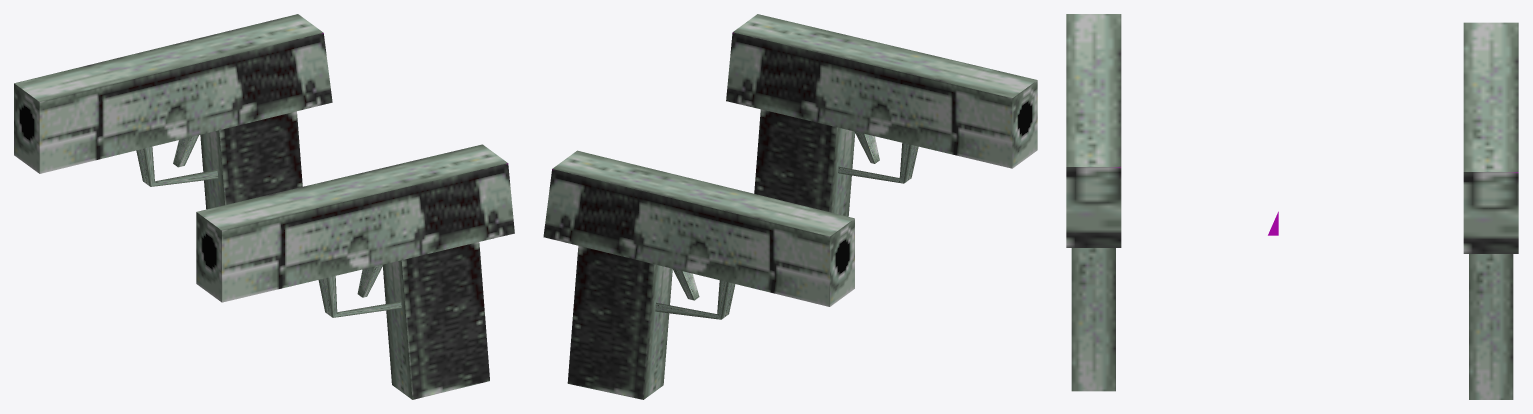
Rendered from pistols.glb.
3 renders of one model, left to right at view 1: azimuth 30°, elevation 25°; view 2: azimuth 150°, elevation 25°; view 3: azimuth 270°, elevation 25°, orthographic. The views are drawn at different scales.
Visible parts, largest first — view 1: M002, M001; view 2: M001, M002; view 3: M002, M001.
Part boxes in pixels (bbox=[...]): M002: bbox=[196, 144, 514, 399]; M001: bbox=[14, 14, 332, 209]; M001: bbox=[543, 150, 854, 399]; M002: bbox=[726, 14, 1037, 216]; M002: bbox=[1066, 14, 1121, 391]; M001: bbox=[1463, 22, 1518, 399].
Size of the model in its own units: 1.33 by 0.97 by 1.64.
1 material, 1 textured.
